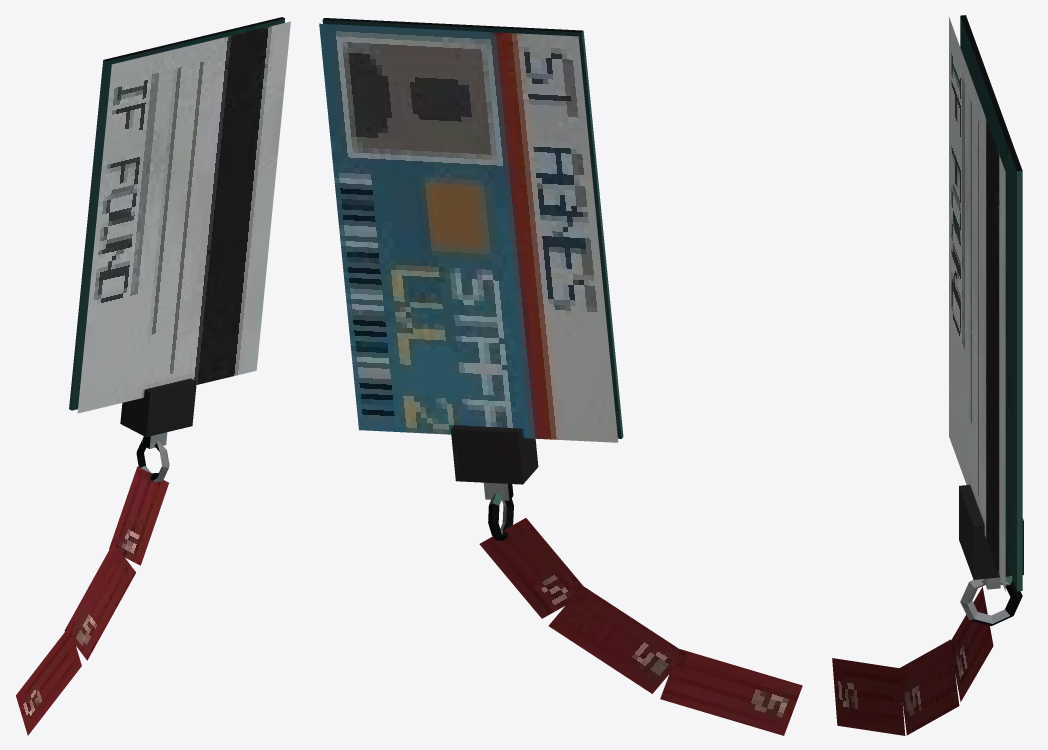
The model's file is vuena-px-fp-keycard.glb.
The picture shows the model from 3 angles, left to right: view 1: azimuth 30°, elevation 25°; view 2: azimuth 150°, elevation 25°; view 3: azimuth 270°, elevation 25°; orthographic projection. The views are drawn at different scales.
Visible parts, largest first — view 1: px_fp_keycard; view 2: px_fp_keycard; view 3: px_fp_keycard.
Part boxes in pixels (x1,y1,x2,y2): px_fp_keycard: [16, 17, 290, 735]; px_fp_keycard: [319, 18, 802, 735]; px_fp_keycard: [832, 15, 1023, 735].
Size of the model in its own units: 0.09 by 0.1529 by 0.0354.
1 material, 1 textured.
